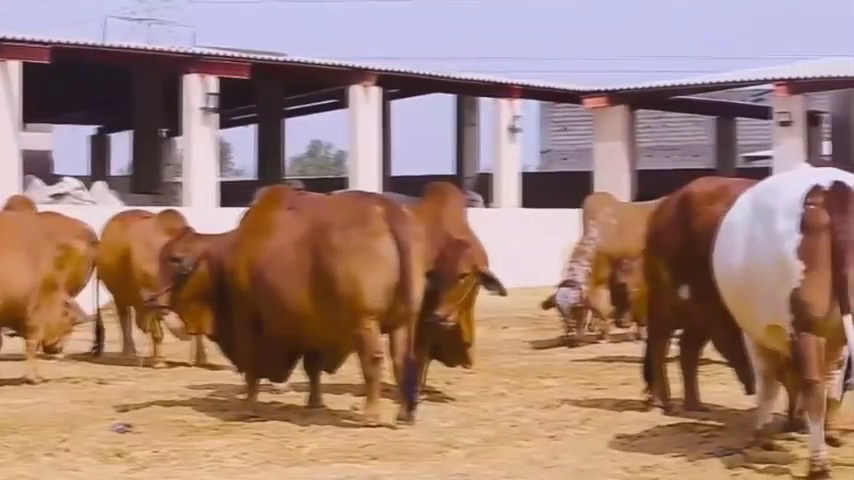bo: (132, 178, 432, 434), (700, 157, 854, 476), (614, 163, 746, 409), (396, 166, 506, 381), (85, 195, 208, 370), (527, 176, 648, 345), (1, 196, 98, 377)
